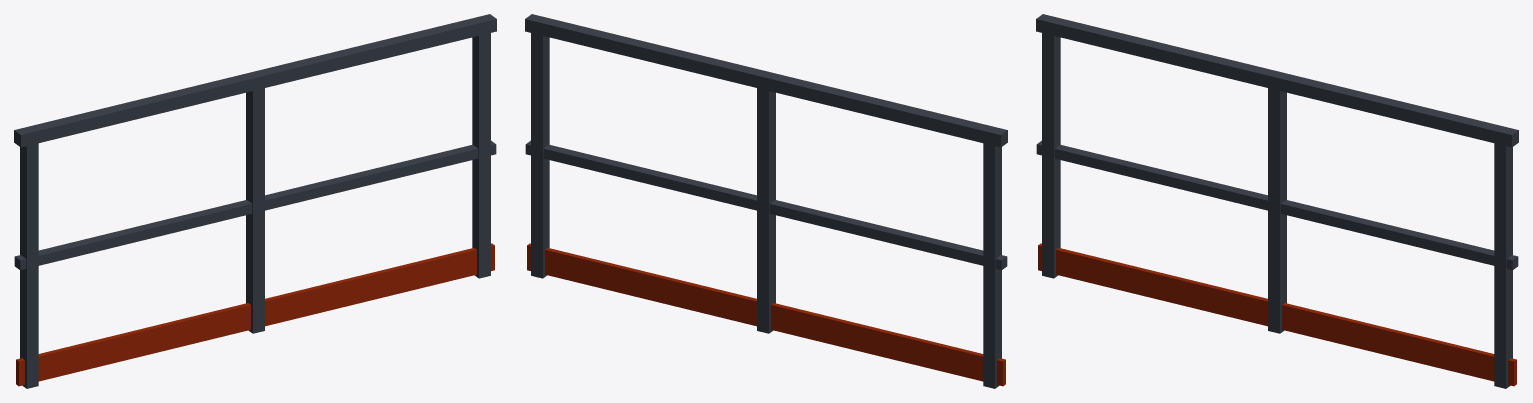
The model's file is SM_Railing_2m_Hideout.glb.
3 renders of one model, left to right at view 1: azimuth 30°, elevation 25°; view 2: azimuth 150°, elevation 25°; view 3: azimuth 330°, elevation 25°, orthographic.
Visible parts, largest first — view 1: SM_Railing_2m_Hideout-col; view 2: SM_Railing_2m_Hideout-col; view 3: SM_Railing_2m_Hideout-col.
Part boxes in pixels (x1,y1,x2,y2): SM_Railing_2m_Hideout-col: (14, 14, 496, 388); SM_Railing_2m_Hideout-col: (525, 14, 1007, 388); SM_Railing_2m_Hideout-col: (1036, 14, 1518, 388).
Bounding box in the file's own units: 2 × 1.02 × 0.05.
